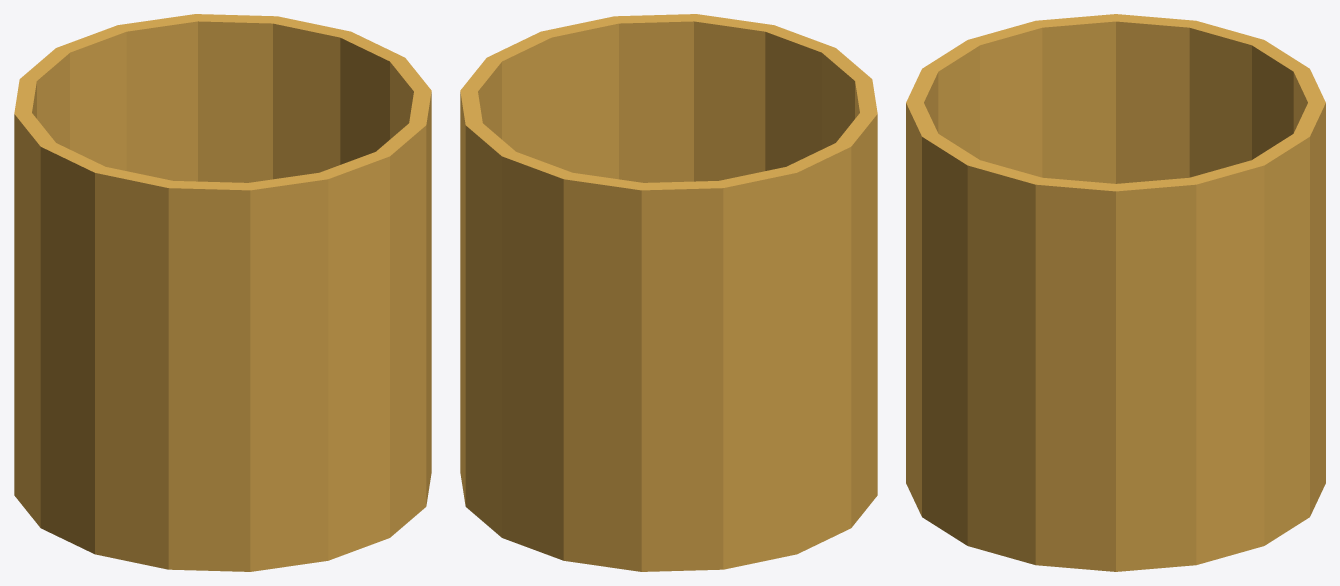
The model's file is clay_crucible.glb.
The picture shows the model from 3 angles, left to right: view 1: azimuth 30°, elevation 25°; view 2: azimuth 150°, elevation 25°; view 3: azimuth 270°, elevation 25°; orthographic projection.
Visible parts, largest first — view 1: crucible-convcol; view 2: crucible-convcol; view 3: crucible-convcol.
Part boxes in pixels (left/top/right/bottom): crucible-convcol: left=14, top=14, right=431, bottom=571; crucible-convcol: left=460, top=14, right=877, bottom=571; crucible-convcol: left=906, top=14, right=1325, bottom=571.
Bounding box in the file's own units: 2 × 2 × 2.
